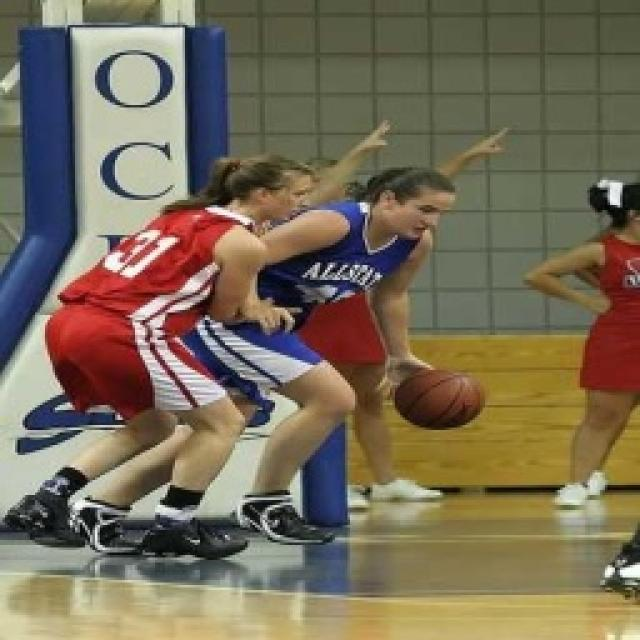rim: (391, 356, 491, 435)
